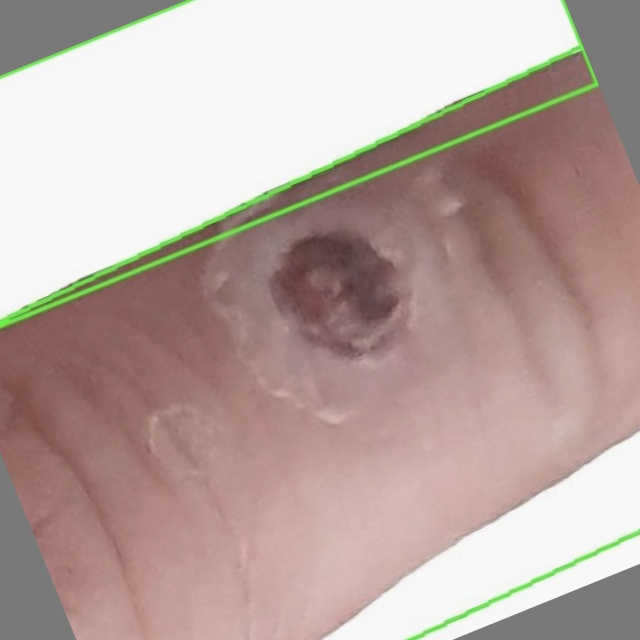Scabies: (0, 45, 639, 639), (0, 0, 597, 326)
